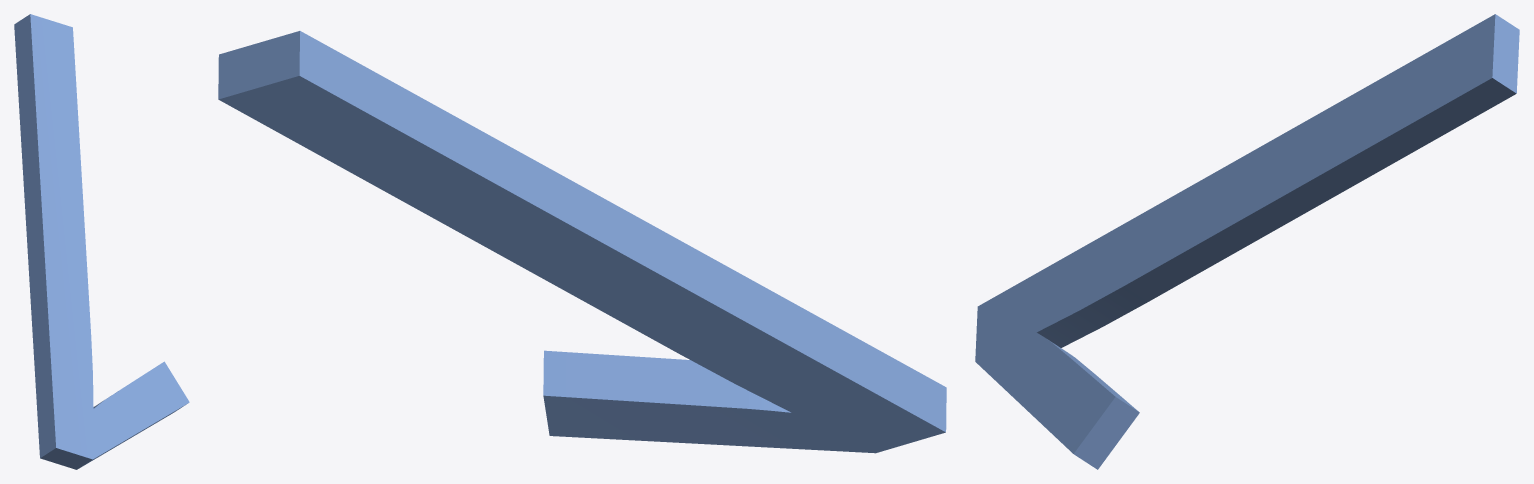
The model's file is New_Number_1.gltf.
3 views of the same model, side by side, from view 1: azimuth 30°, elevation 25°; view 2: azimuth 150°, elevation 25°; view 3: azimuth 270°, elevation 25° (orthographic). The views are drawn at different scales.
Parts seen in each view (by area): view 1: Part 208; view 2: Part 208; view 3: Part 208.
Part boxes in pixels (x1,y1,x2,y2): Part 208: (14, 14, 189, 469); Part 208: (218, 31, 946, 453); Part 208: (975, 14, 1519, 469).
Size of the model in its own units: 0.00236 by 0.00345 by 0.00378.
